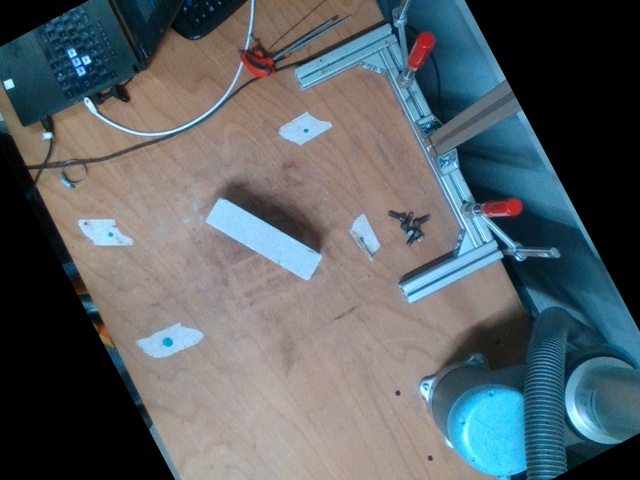brick-side: (205, 198, 322, 282)
